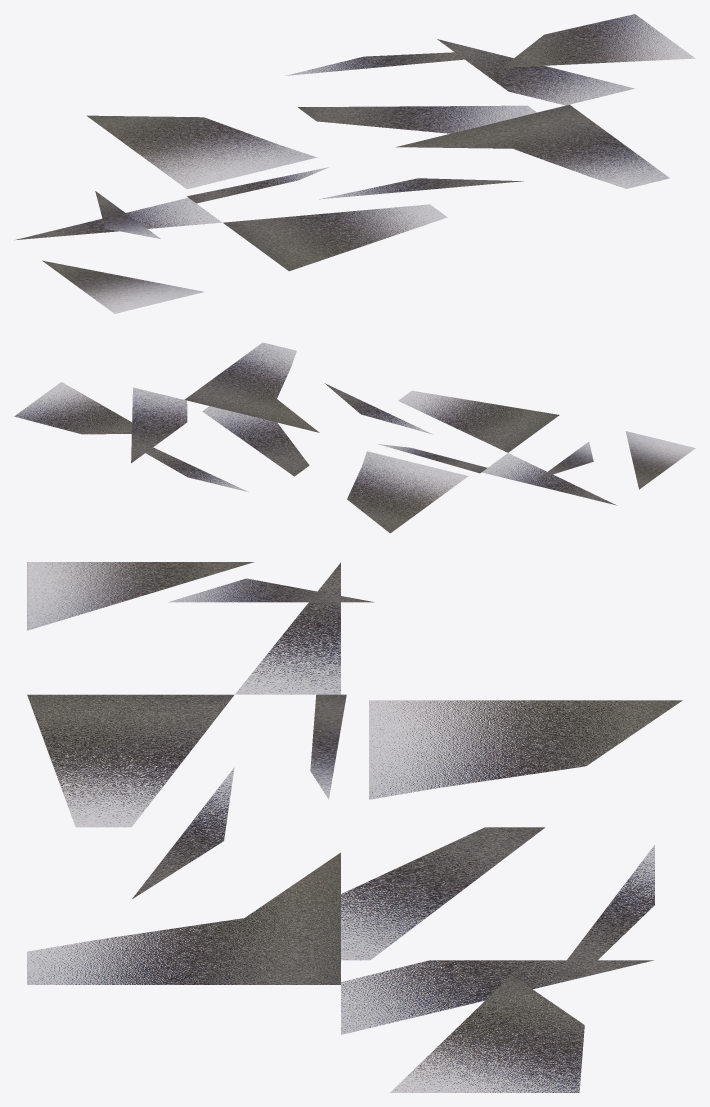
File: GlassShards.fbx
3 views of the same model, one above another, from view 1: azimuth 30°, elevation 25°; view 2: azimuth 150°, elevation 25°; view 3: azimuth 270°, elevation 25° (orthographic). The views are drawn at different scales.
Visible parts, largest first — view 1: Plane.003; view 2: Plane.003; view 3: Plane.003.
Part boxes in pixels (x1,y1,x2,y2): Plane.003: [14, 14, 695, 313]; Plane.003: [14, 342, 695, 533]; Plane.003: [27, 562, 682, 1092].
Size of the model in its own units: 100 by 2.62 by 52.21.
